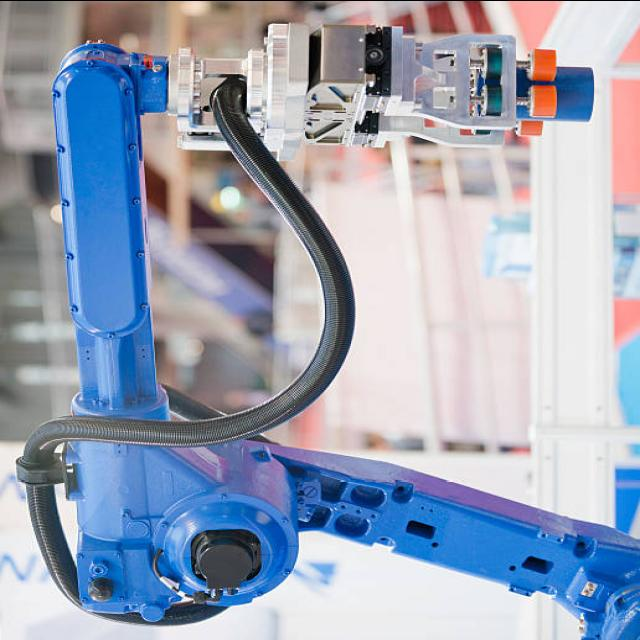Robotic-arm: (28, 39, 640, 639)
